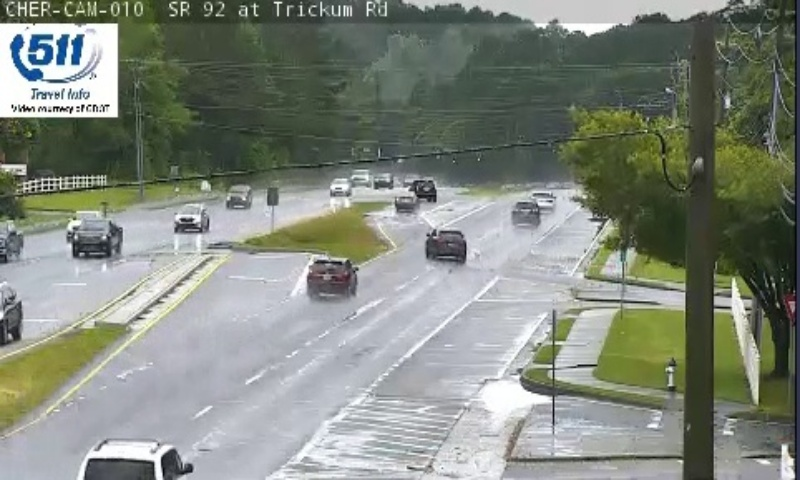car: (308, 256, 355, 294), (429, 227, 464, 261), (511, 198, 539, 222)
